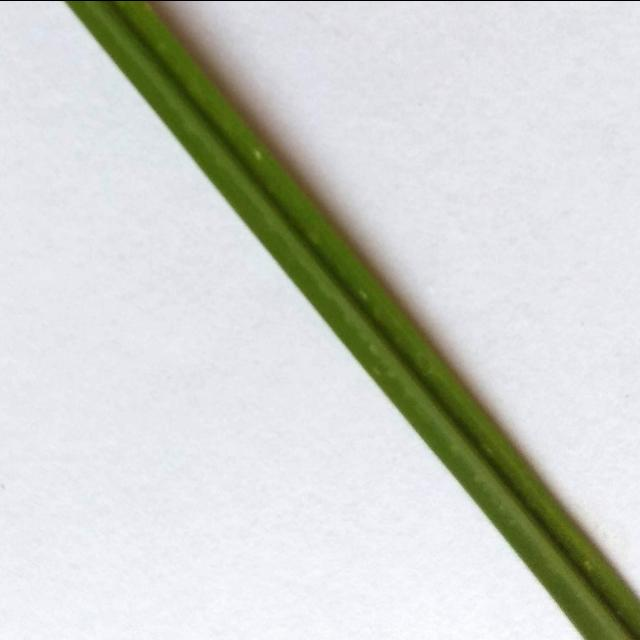healthy: (58, 0, 640, 640)
